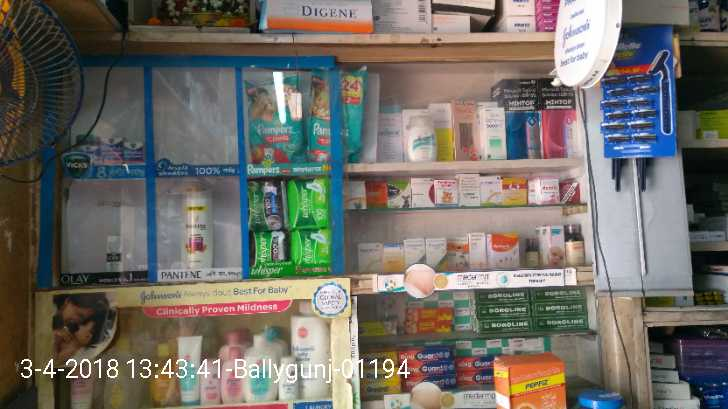vicks: (76, 130, 144, 163)
